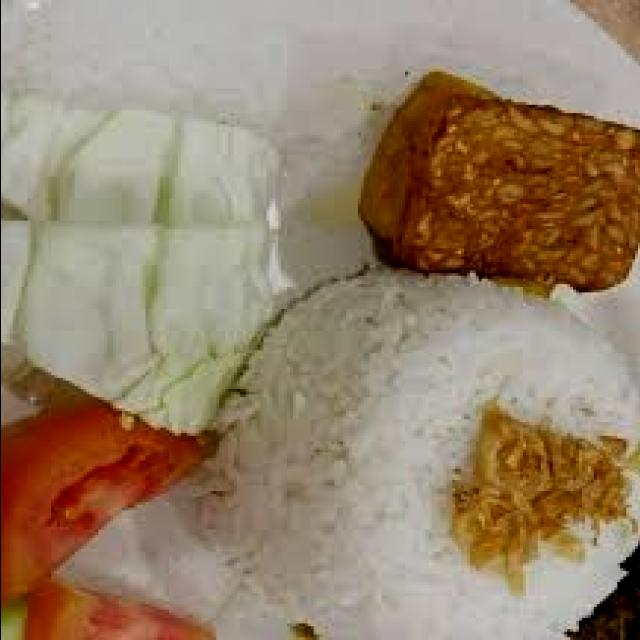nasi: (215, 268, 640, 640)
tempe goreng: (354, 69, 640, 295)
